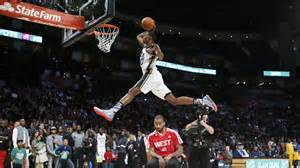basketball: (141, 17, 154, 29)
